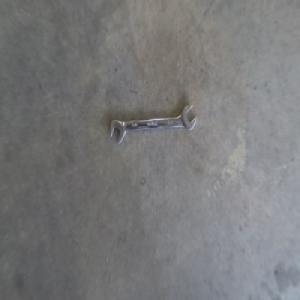Wrench: (106, 104, 199, 146)
